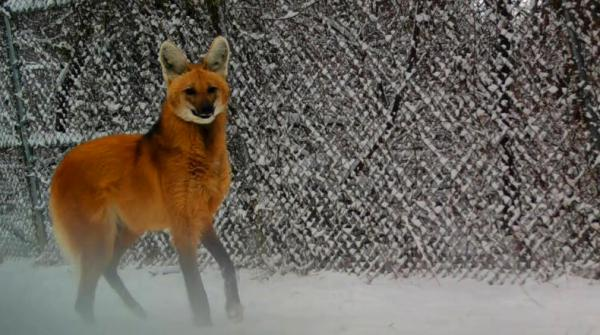LoboGuara: (32, 35, 259, 319)
